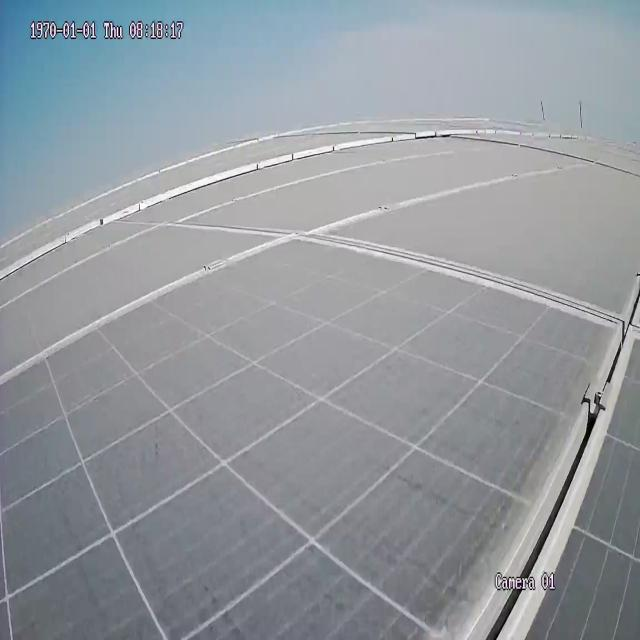interior panel: (243, 219, 640, 635)
